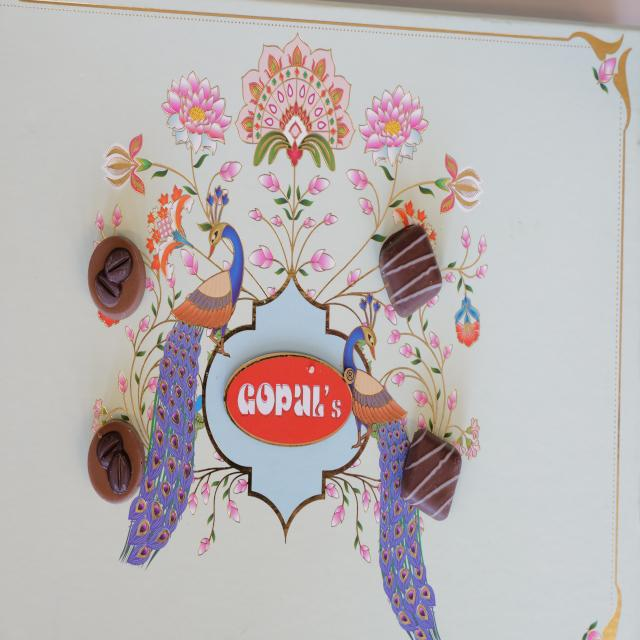Arabia: (87, 235, 147, 322), (87, 418, 147, 504)
Stracciatella: (402, 426, 464, 522), (380, 223, 442, 318)
